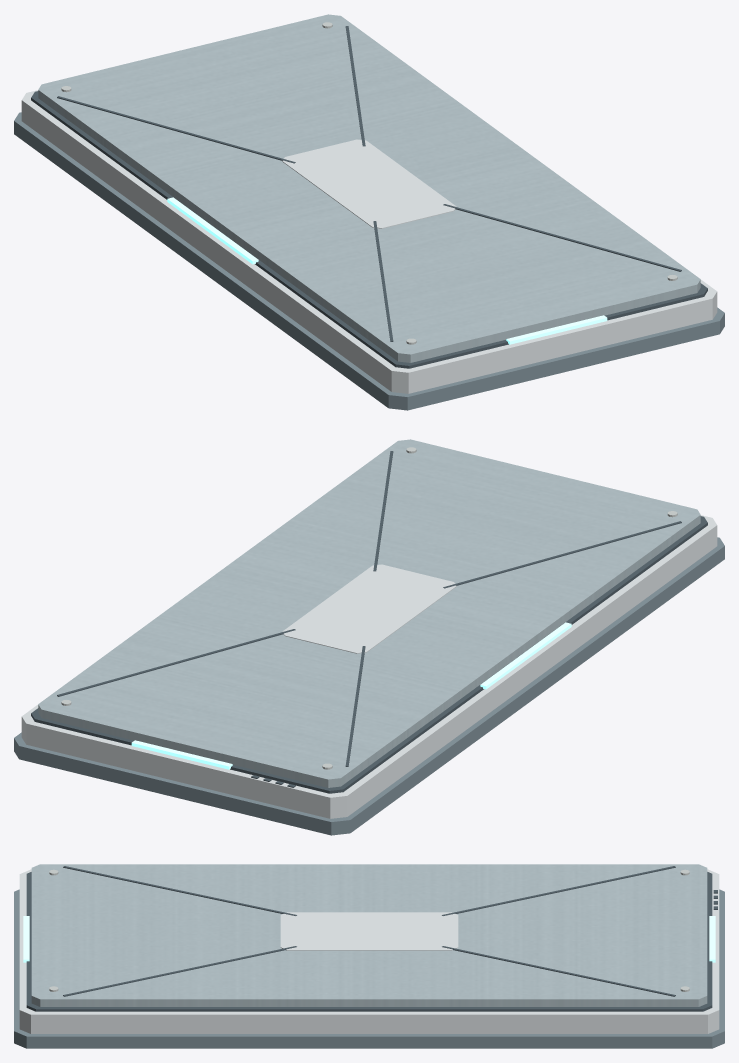
The model's file is m02-metal-half-z.glb.
The picture shows the model from 3 angles, top to bottom: view 1: azimuth 30°, elevation 25°; view 2: azimuth 150°, elevation 25°; view 3: azimuth 270°, elevation 25°; orthographic projection. The views are drawn at different scales.
Parts seen in each view (by area): view 1: half-z/003, half-z/001, half-z/000, half-z/004, half-z/002, half-z/015, half-z/008, half-z/005, half-z/014; view 2: half-z/003, half-z/001, half-z/000, half-z/004, half-z/002, half-z/015, half-z/007, half-z/006, half-z/013; view 3: half-z/003, half-z/001, half-z/000, half-z/004, half-z/002, half-z/007, half-z/008, half-z/005, half-z/006, half-z/013, half-z/014.
Part boxes in pixels (x1,y1,x2,y2): half-z/003: (38,14,700,362); half-z/001: (21,90,717,393); half-z/000: (14,112,724,410); half-z/004: (282,139,456,228); half-z/002: (31,91,707,368); half-z/015: (167,197,258,264); half-z/008: (443,204,681,271); half-z/005: (57,96,295,163); half-z/014: (506,315,607,344); half-z/003: (38,439,700,787); half-z/001: (21,515,717,818); half-z/000: (14,537,724,835); half-z/004: (282,564,456,653); half-z/002: (31,516,707,793); half-z/015: (480,622,571,689); half-z/007: (57,629,295,696); half-z/006: (443,521,681,588); half-z/013: (131,740,232,769); half-z/003: (31,864,707,1006); half-z/001: (19,869,719,1033); half-z/000: (14,889,724,1048); half-z/004: (280,912,458,950); half-z/002: (26,872,712,1011); half-z/007: (442,946,675,996); half-z/008: (63,946,296,996); half-z/005: (442,866,675,915); half-z/006: (63,866,296,915); half-z/013: (709,916,715,962); half-z/014: (23,916,29,962).
Bounding box in the file's own units: 0.5 × 0.0678 × 1.
6 materials, 1 textured.
